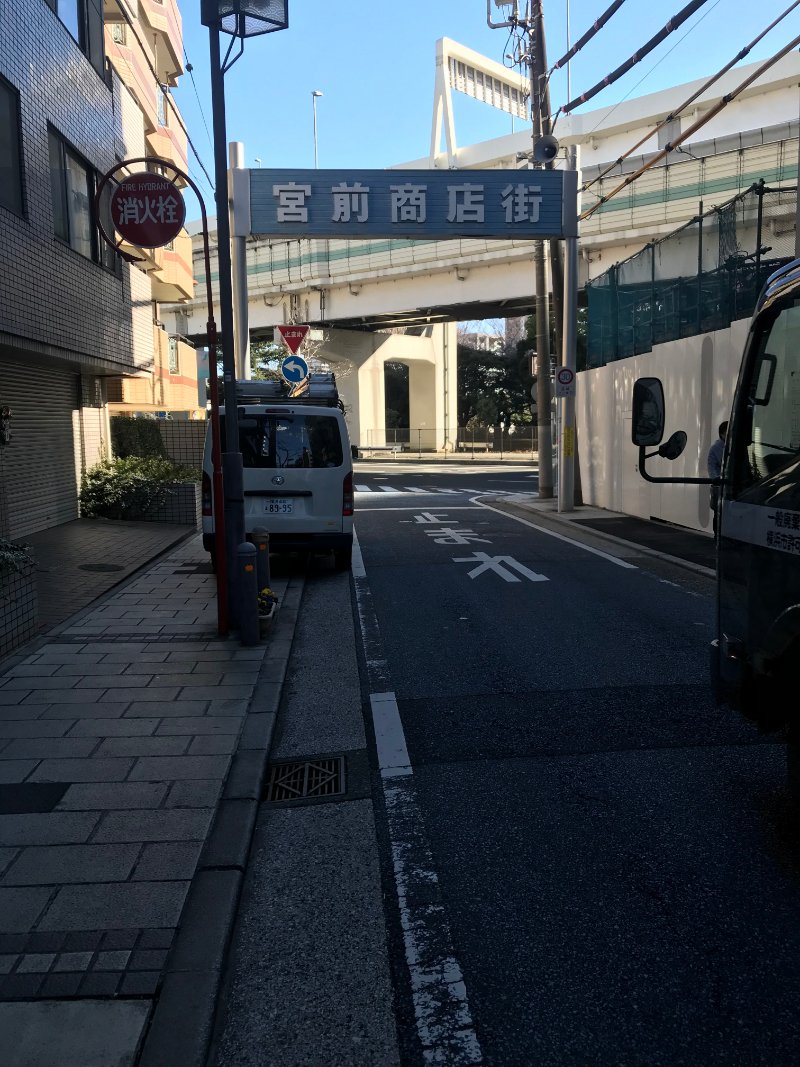STOP: (273, 322, 311, 354)
